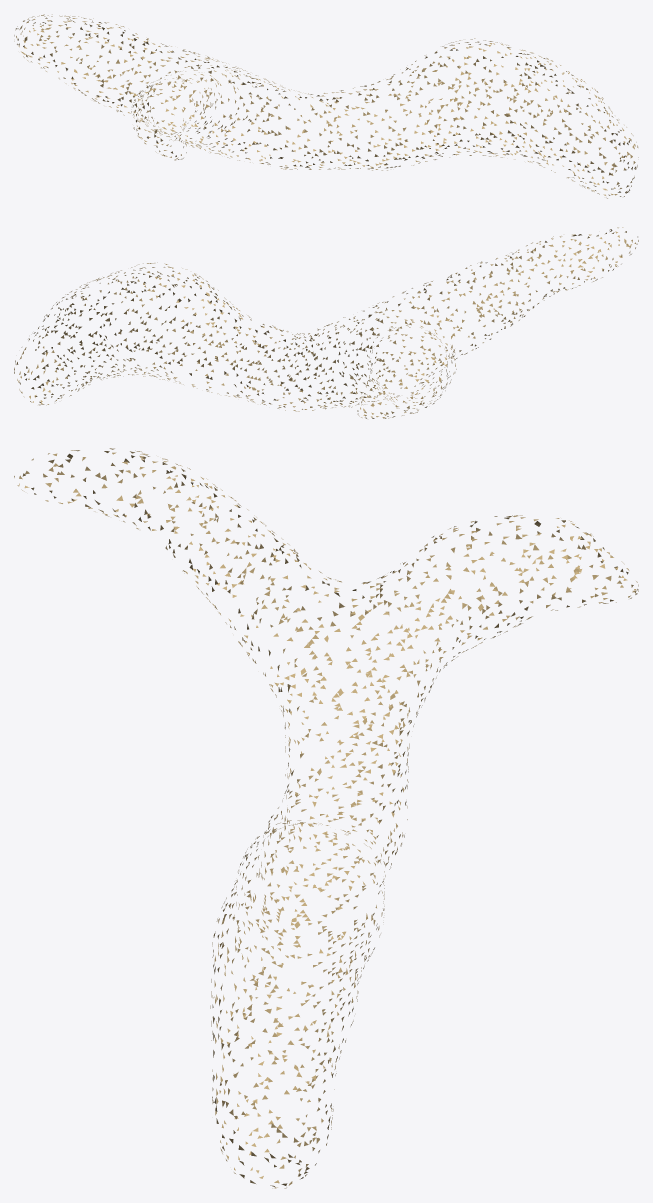
File: morph_007.glb
3 views of the same model, one above another, from view 1: azimuth 30°, elevation 25°; view 2: azimuth 150°, elevation 25°; view 3: azimuth 270°, elevation 25° (orthographic). The views are drawn at different scales.
Size of the model in its own units: 110 by 48.99 by 74.1.
